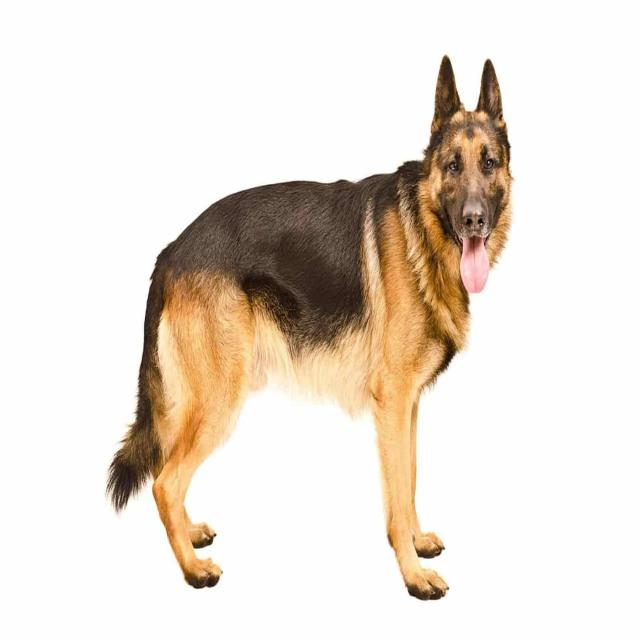German Shepherd: (115, 55, 511, 603)
